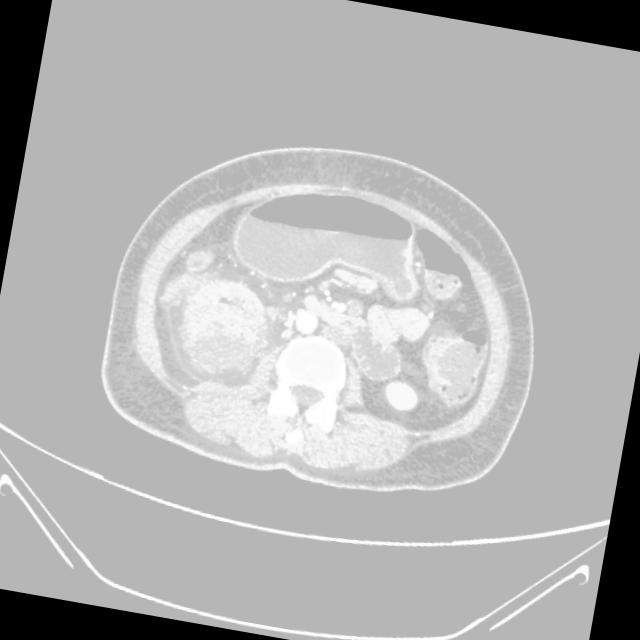TUMOR: (101, 155, 533, 421)
